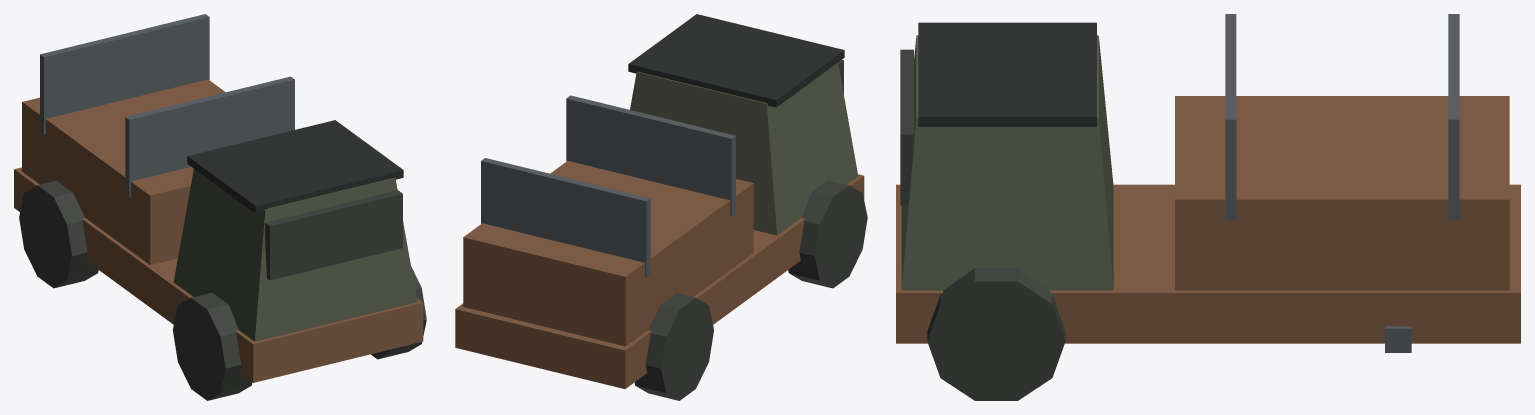
The model's file is truck_wreck.glb.
3 views of the same model, side by side, from view 1: azimuth 30°, elevation 25°; view 2: azimuth 150°, elevation 25°; view 3: azimuth 270°, elevation 25° (orthographic). The views are drawn at different scales.
Parts seen in each view (by area): view 1: cab, bed, chassis, hoop2, burn, hoop, windshield, wheel0, wheel2, wheel1; view 2: bed, cab, chassis, hoop, hoop2, burn, wheel0, wheel2; view 3: bed, chassis, cab, burn, wheel1, hoop, hoop2, windshield, axle_bare.
Part boxes in pixels (x1,y1,x2,y2): cab: [173, 169, 417, 341]; bed: [22, 79, 225, 265]; chassis: [14, 167, 423, 382]; hoop2: [40, 14, 209, 134]; burn: [187, 120, 403, 213]; hoop: [125, 76, 294, 197]; windshield: [265, 190, 402, 280]; wheel0: [173, 292, 252, 400]; wheel2: [19, 180, 98, 288]; wheel1: [371, 266, 426, 359]; bed: [463, 161, 753, 346]; cab: [630, 63, 858, 235]; chassis: [455, 174, 864, 388]; hoop: [566, 95, 735, 216]; hoop2: [481, 158, 650, 278]; burn: [628, 14, 844, 107]; wheel0: [788, 180, 867, 288]; wheel2: [634, 293, 713, 400]; bed: [1175, 96, 1509, 290]; chassis: [896, 184, 1520, 343]; cab: [901, 35, 1113, 290]; burn: [918, 22, 1096, 126]; wheel1: [927, 268, 1065, 400]; hoop: [1225, 14, 1236, 220]; hoop2: [1448, 14, 1459, 220]; windshield: [900, 49, 913, 205]; axle_bare: [1385, 326, 1411, 352].
Size of the model in its own units: 2.72 by 2.67 by 5.6.
